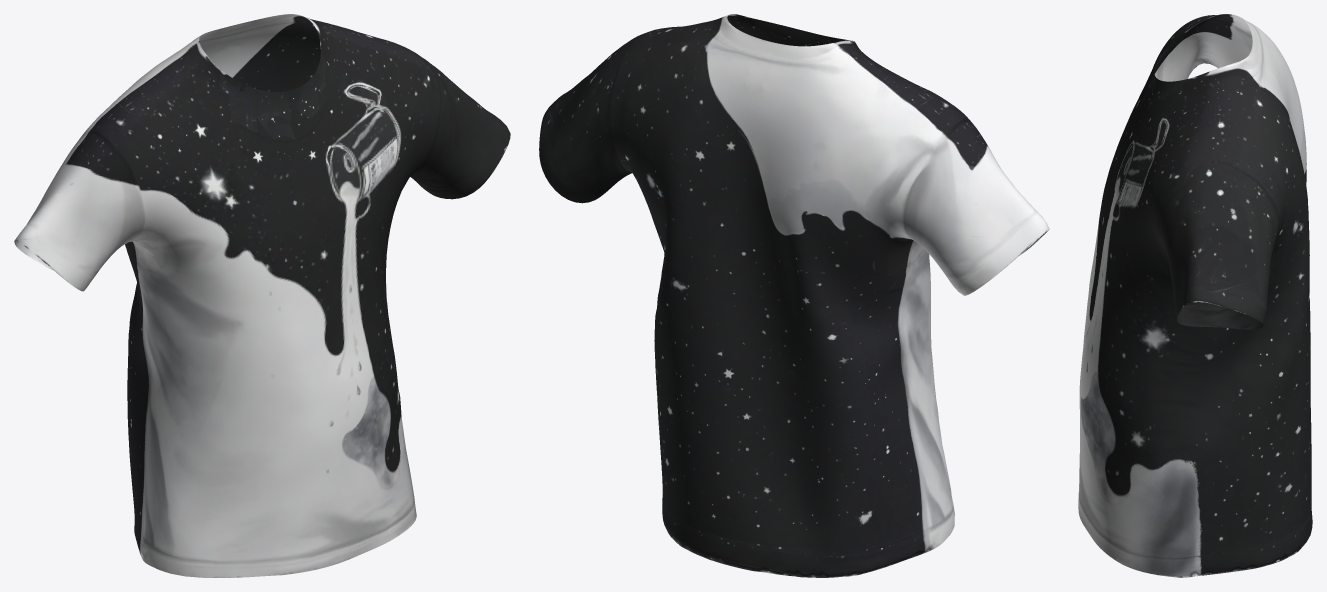
File: Tshirt6.glb
The picture shows the model from 3 angles, left to right: view 1: azimuth 30°, elevation 25°; view 2: azimuth 150°, elevation 25°; view 3: azimuth 270°, elevation 25°; orthographic projection. The views are drawn at different scales.
Parts seen in each view (by area): view 1: Mesh_0; view 2: Mesh_0; view 3: Mesh_0.
Boxes of the visible parts, left/top/right/bottom form: Mesh_0: left=14, top=14, right=510, bottom=577; Mesh_0: left=539, top=14, right=1049, bottom=577; Mesh_0: left=1078, top=14, right=1312, bottom=577.
Size of the model in its own units: 2 by 1.93 by 0.8464.
Materials: 1 (1 with a texture image).
